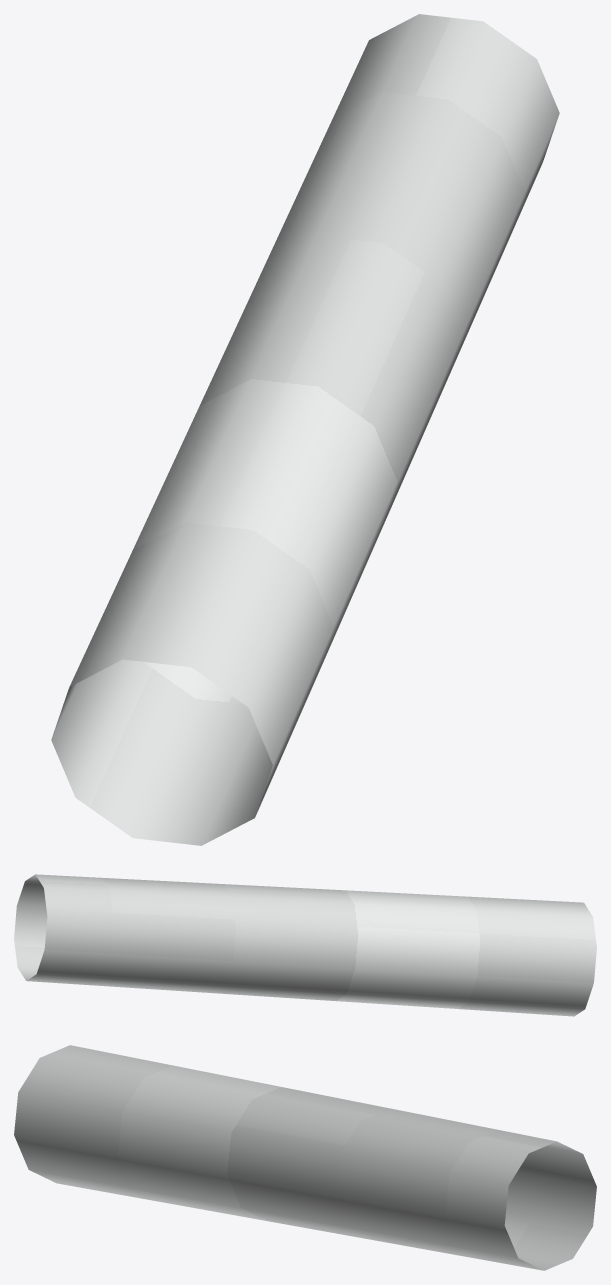
The model's file is nycsignalarm_diagonal6_c7.obj.
The picture shows the model from 3 angles, top to bottom: view 1: azimuth 30°, elevation 25°; view 2: azimuth 150°, elevation 25°; view 3: azimuth 270°, elevation 25°; orthographic projection. The views are drawn at different scales.
Parts seen in each view (by area): view 1: nycsignalarm_diagonal6_c7; view 2: nycsignalarm_diagonal6_c7; view 3: nycsignalarm_diagonal6_c7.
Part boxes in pixels (x1,y1,x2,y2): nycsignalarm_diagonal6_c7: (51, 14, 559, 845); nycsignalarm_diagonal6_c7: (14, 874, 596, 1016); nycsignalarm_diagonal6_c7: (14, 1045, 596, 1270).
Bounding box in the file's own units: 1.2 × 0.5173 × 1.2.
